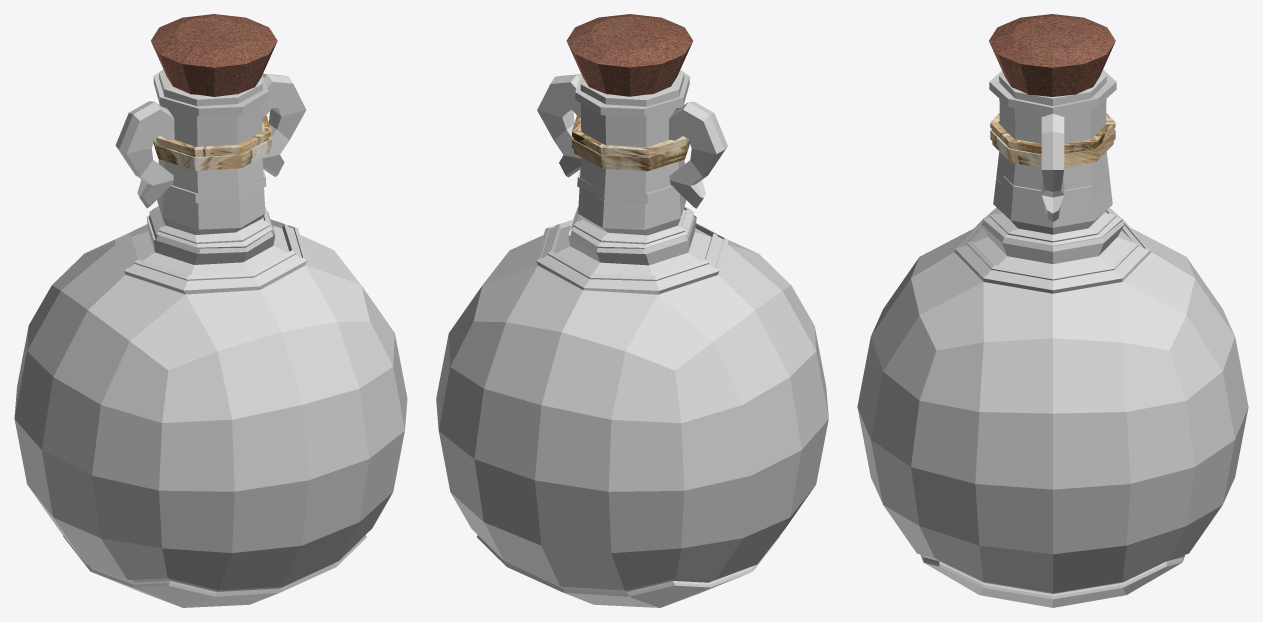
File: WinBottle.fbx
3 renders of one model, left to right at view 1: azimuth 30°, elevation 25°; view 2: azimuth 150°, elevation 25°; view 3: azimuth 270°, elevation 25°, orthographic.
Parts seen in each view (by area): view 1: Cube.089, Plane.008, Cube.092, Cube.087; view 2: Cube.089, Plane.008, Cube.092, Cube.087; view 3: Cube.089, Plane.008, Cube.092, Cube.087.
Boxes of the visible parts, x1,y1,x2,y2 form: Cube.089: [14, 69, 407, 607]; Plane.008: [151, 14, 277, 96]; Cube.092: [153, 115, 271, 166]; Cube.087: [157, 137, 269, 170]; Cube.089: [436, 70, 828, 607]; Plane.008: [566, 14, 692, 96]; Cube.092: [572, 116, 689, 166]; Cube.087: [573, 131, 686, 171]; Cube.089: [857, 70, 1248, 607]; Plane.008: [989, 14, 1115, 96]; Cube.092: [990, 113, 1115, 163]; Cube.087: [992, 130, 1113, 167].
Size of the model in its own units: 168 by 264 by 168.
